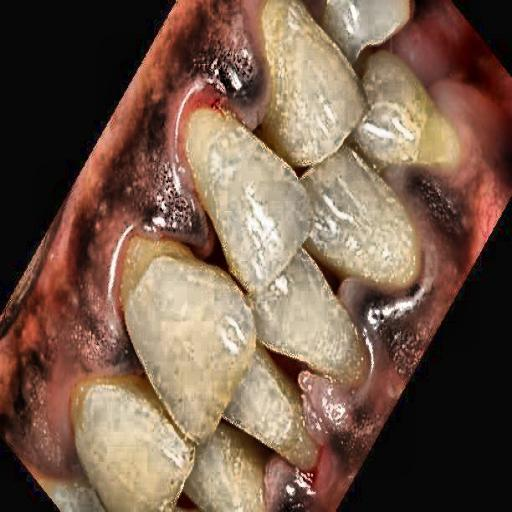Calculus: (38, 338, 196, 452), (111, 198, 254, 318), (244, 0, 322, 157)
